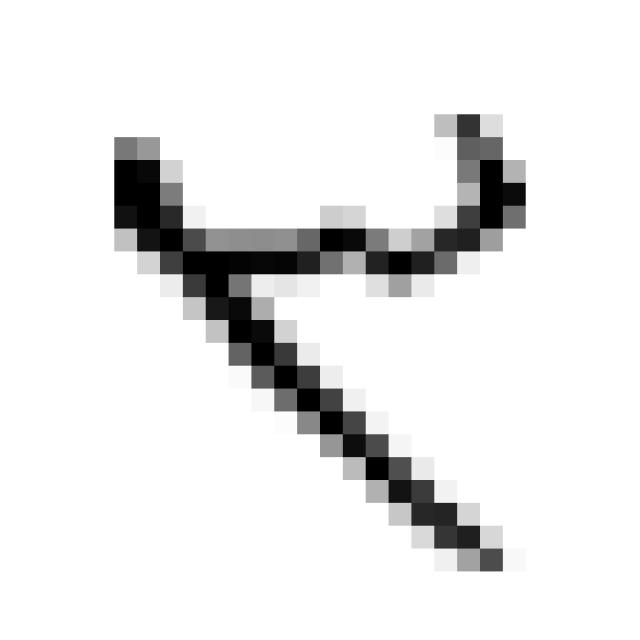3 -three-: (92, 92, 542, 592)
